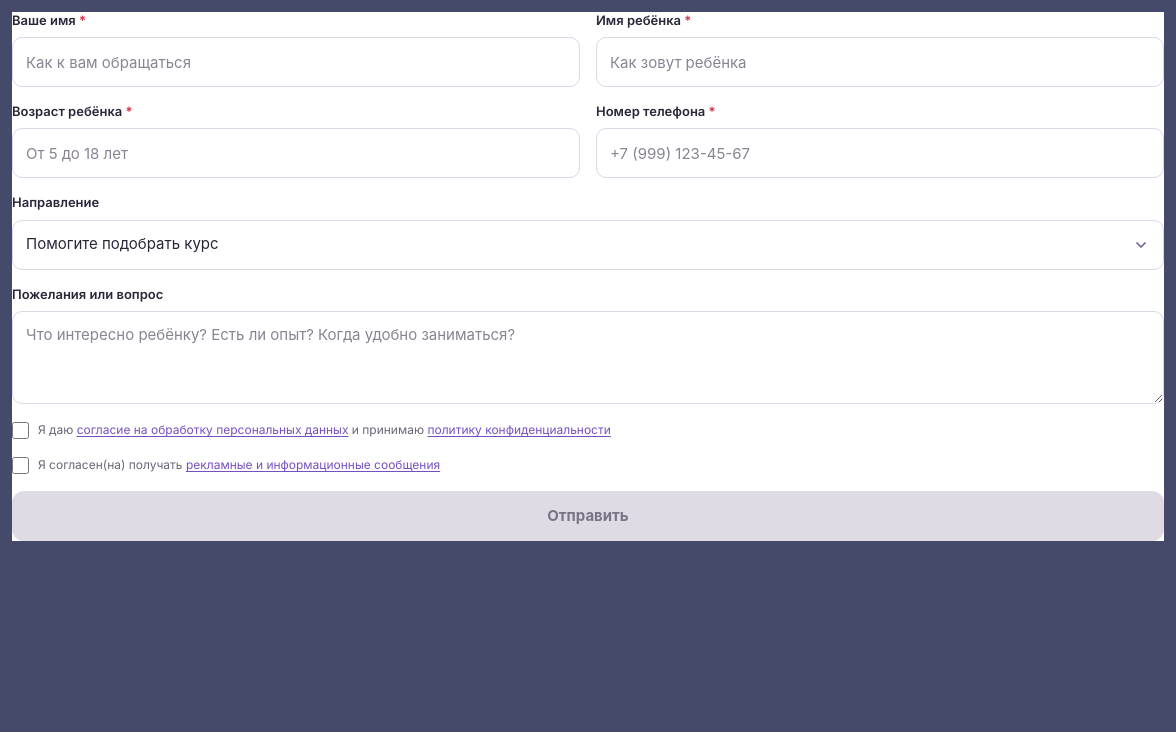
Scenario: children phone formatting and validation › rejects invalid Возраст ребёнка before sending
Type "Тестовый родитель" into the field labelled "Ваше имя *".
click(296, 62); type("Тестовый родитель")  # box [12,37,580,87]
Type "8 (999) 123-45-67" into the field labelled "Номер телефона *".
click(880, 153); type("8 (999) 123-45-67")  # box [596,128,1164,178]
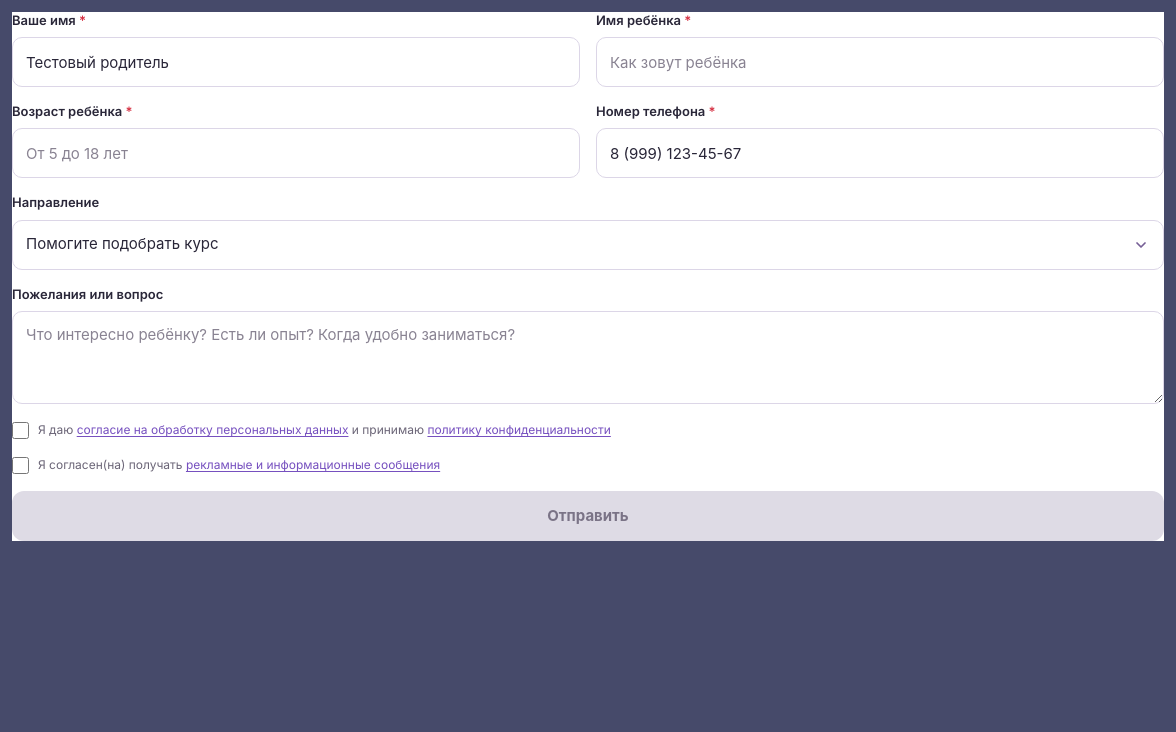
Type "Александр" into the field labelled "Имя ребёнка *".
click(880, 62); type("Александр")  # box [596,37,1164,87]
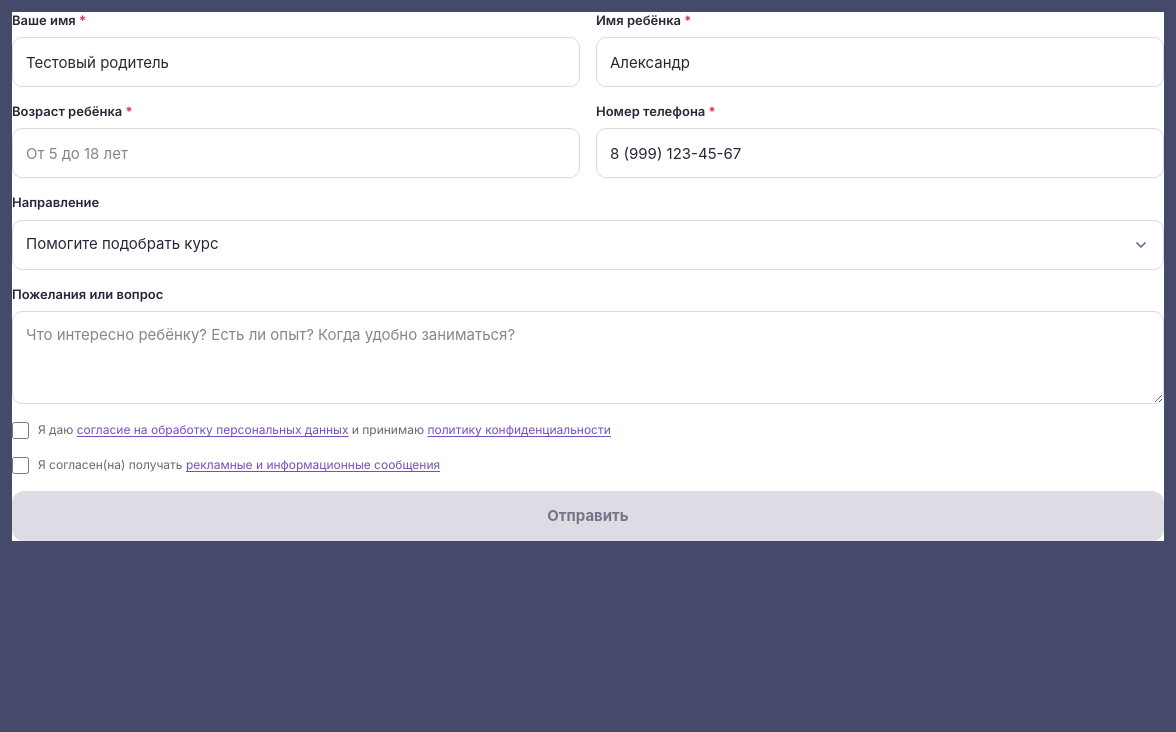
Type "12" into the number field labelled "Возраст ребёнка *".
click(296, 153); type("12")  # box [12,128,580,178]
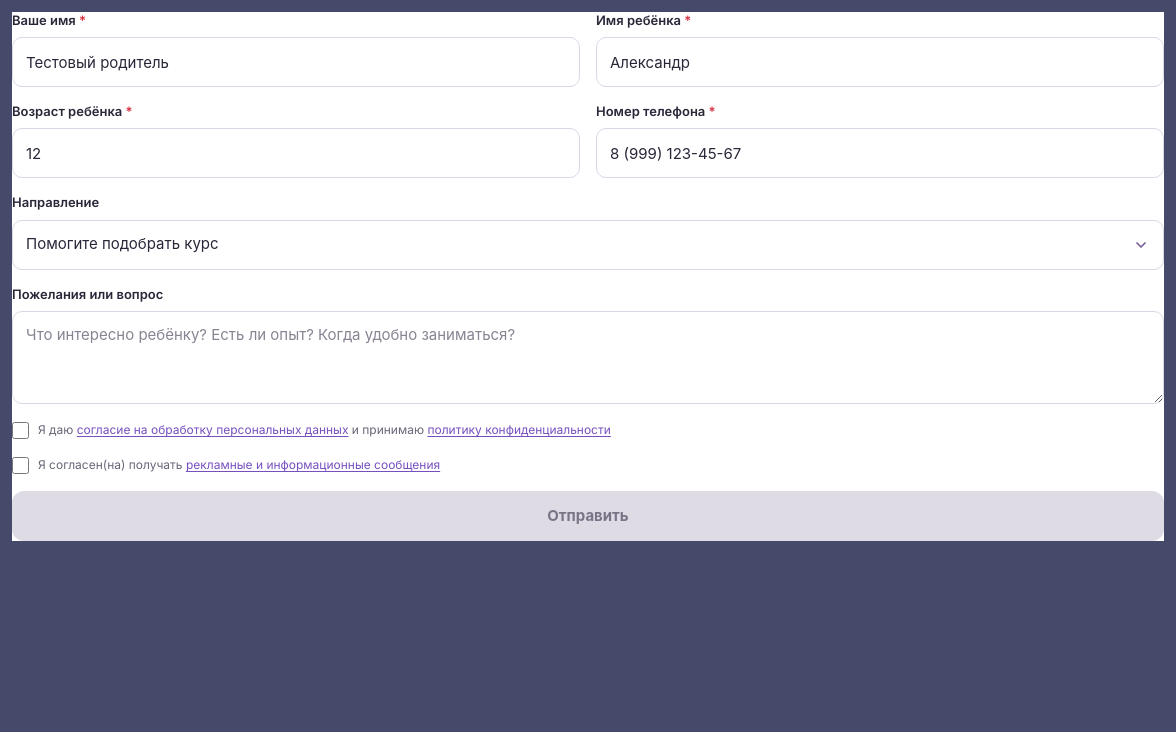
Click the checkbox labelled "обработку персональных данных".
click(20, 431)  # box [12,422,29,439]
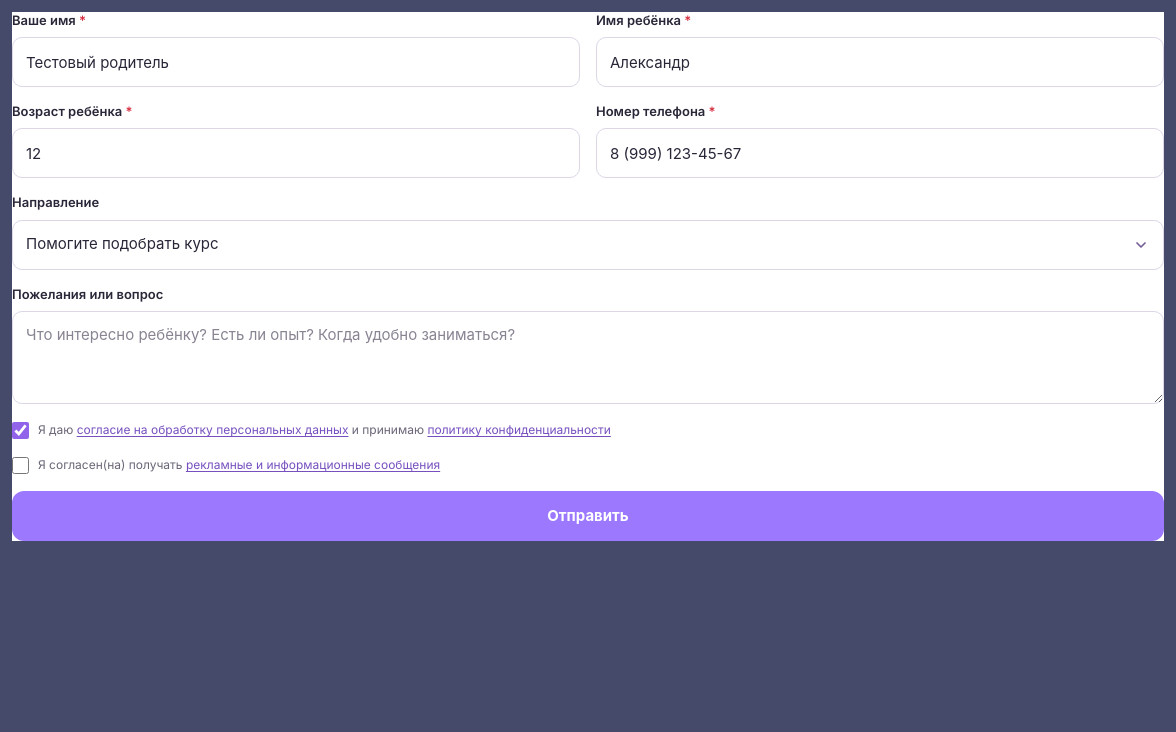
Replace the text in the number field labelled "Возраст ребёнка *" with "19" at (296, 153), box [12,128,580,178]
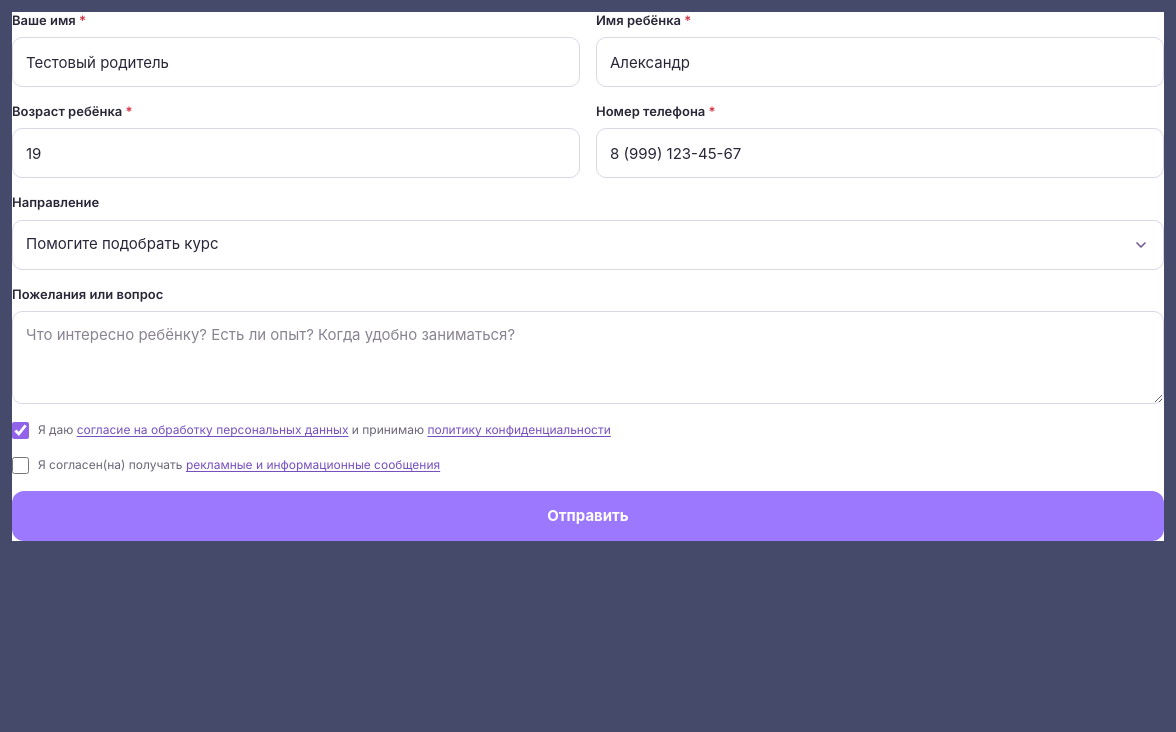
Submit the form
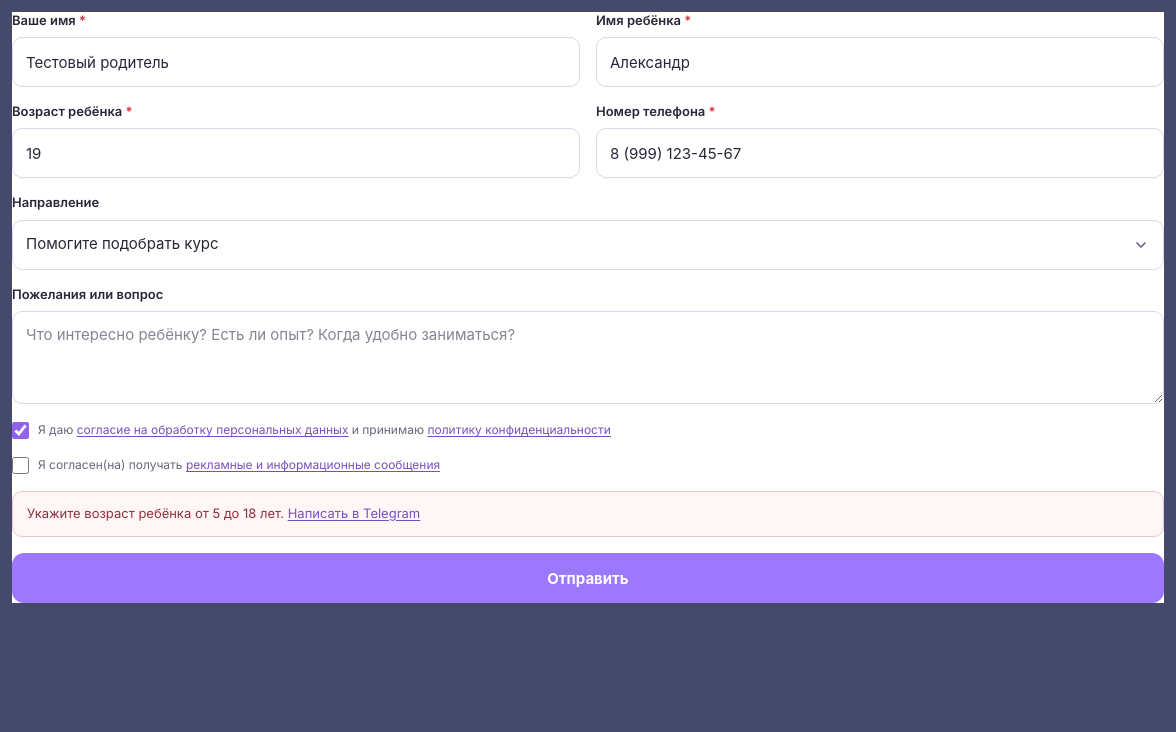
Check: the message shows "возраст ребёнка", box [27,506,284,522]
